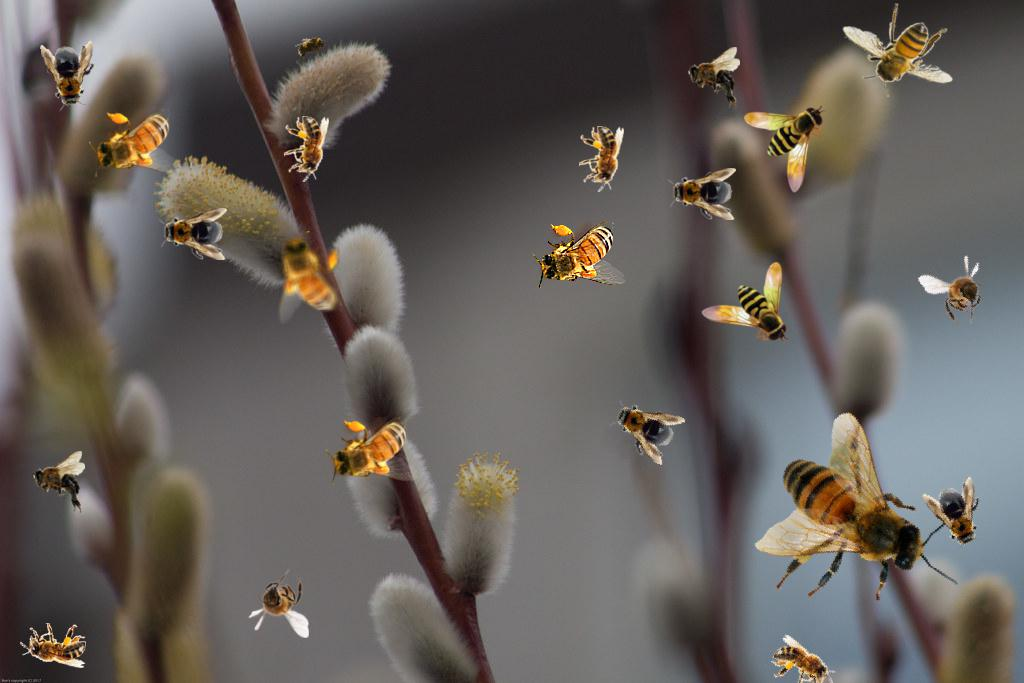Bee: (720, 386, 985, 654), (842, 3, 953, 97), (916, 245, 1007, 337), (744, 105, 826, 193), (701, 262, 789, 344), (602, 389, 686, 467), (921, 474, 997, 558), (89, 109, 182, 177), (326, 417, 419, 485), (274, 231, 342, 324), (533, 221, 626, 289), (40, 39, 100, 113), (248, 568, 309, 638), (764, 633, 844, 683), (159, 208, 227, 260), (668, 168, 736, 220), (32, 451, 85, 513), (687, 47, 740, 109), (20, 623, 86, 668), (579, 126, 624, 192), (284, 116, 329, 182), (289, 30, 335, 64)
